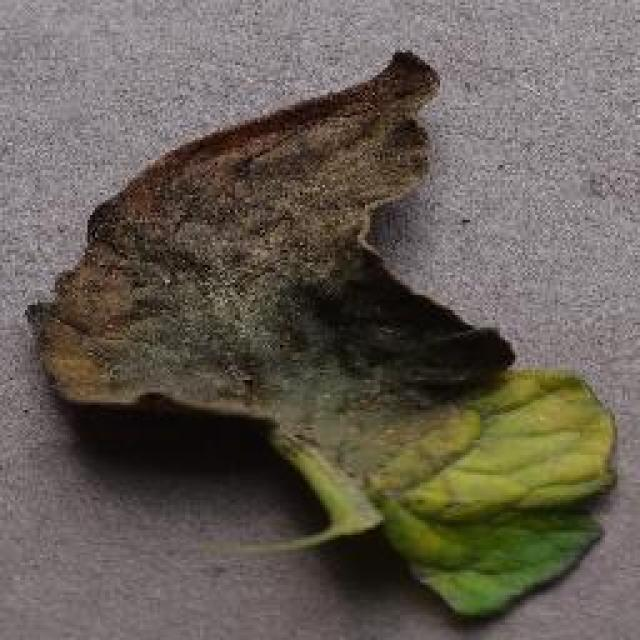Tomato___Late_blight: (22, 48, 622, 620)
